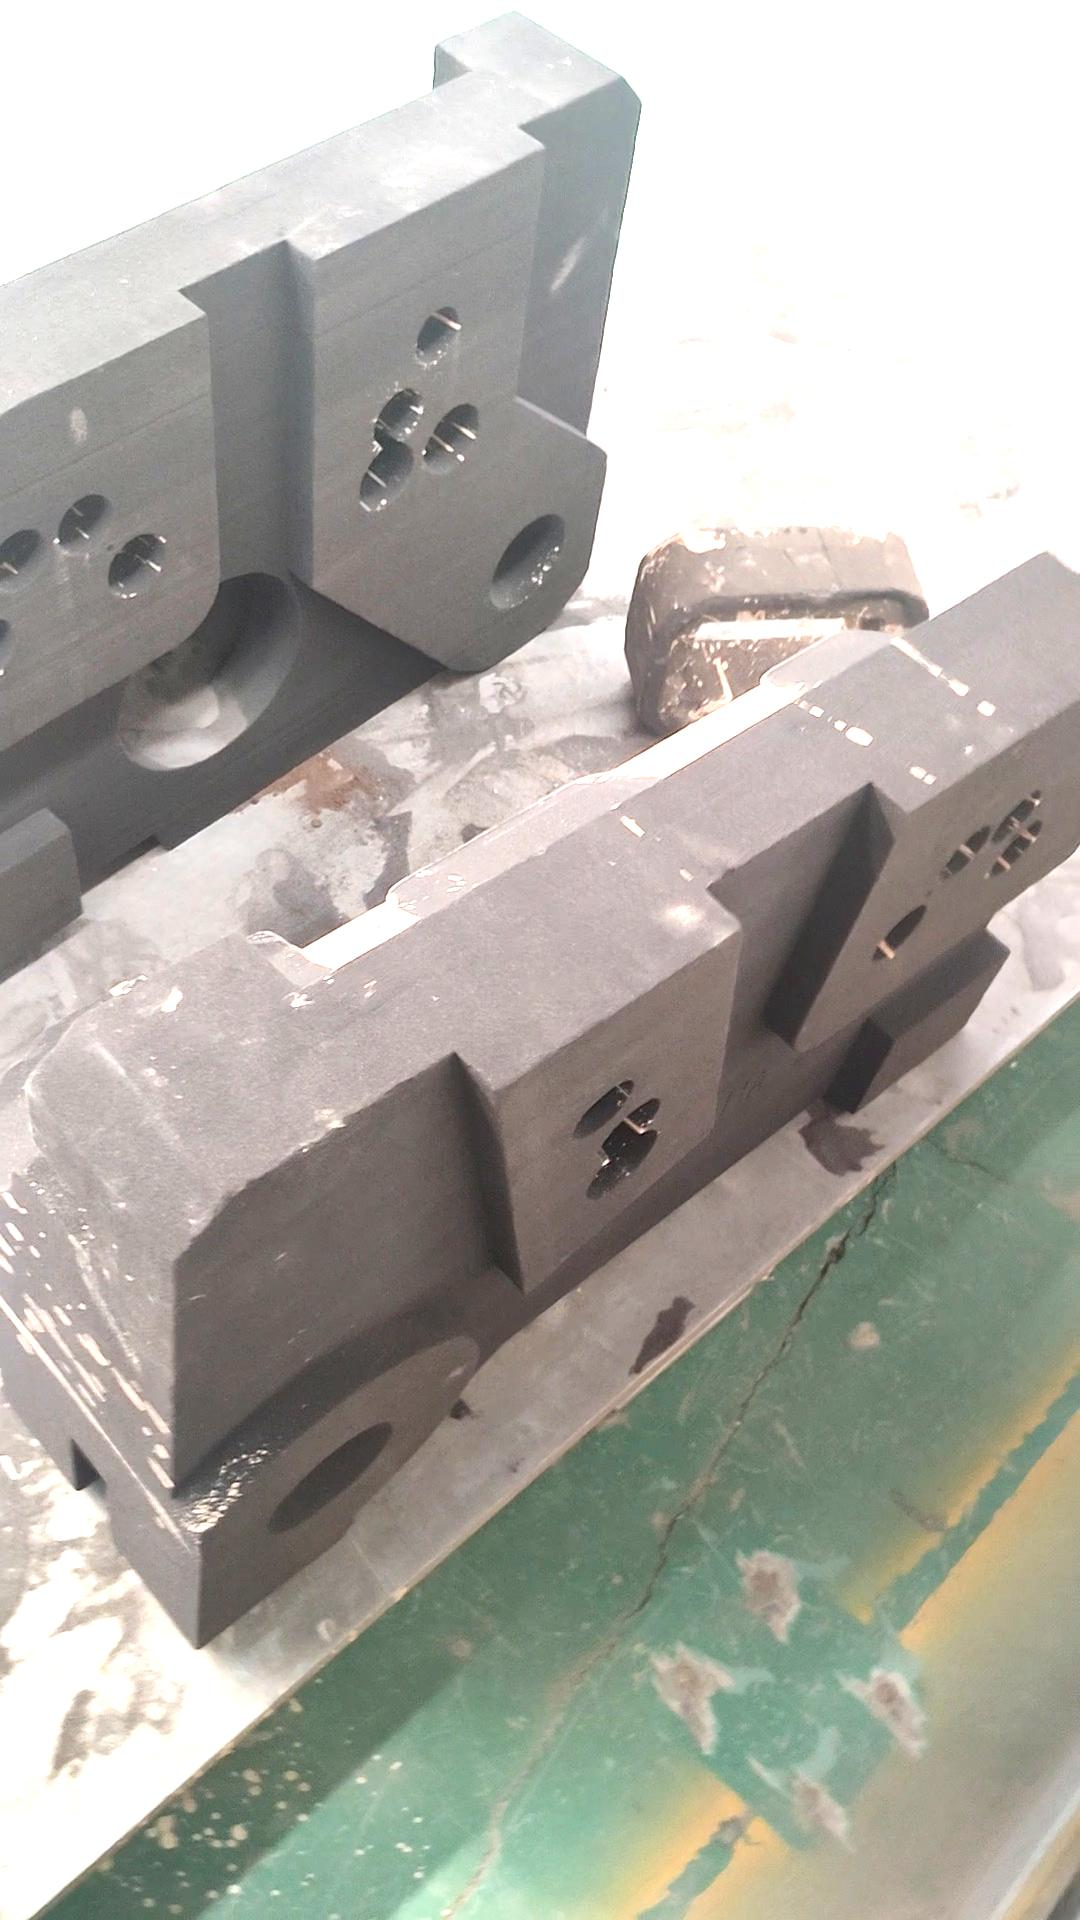pouring hole: (268, 1422, 392, 1528), (489, 513, 567, 611)
